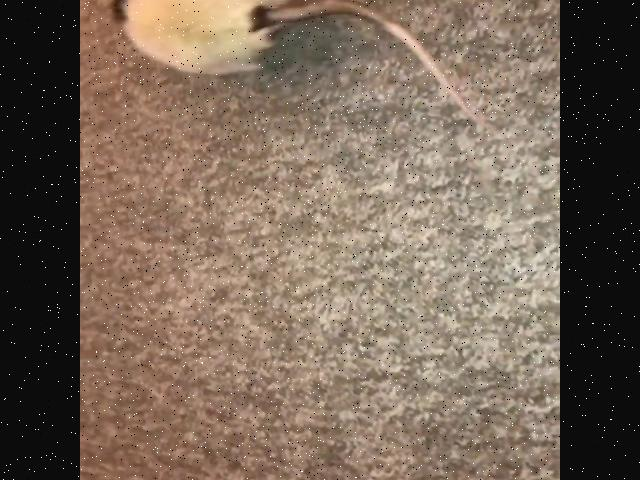Tikus: (109, 0, 379, 80)
